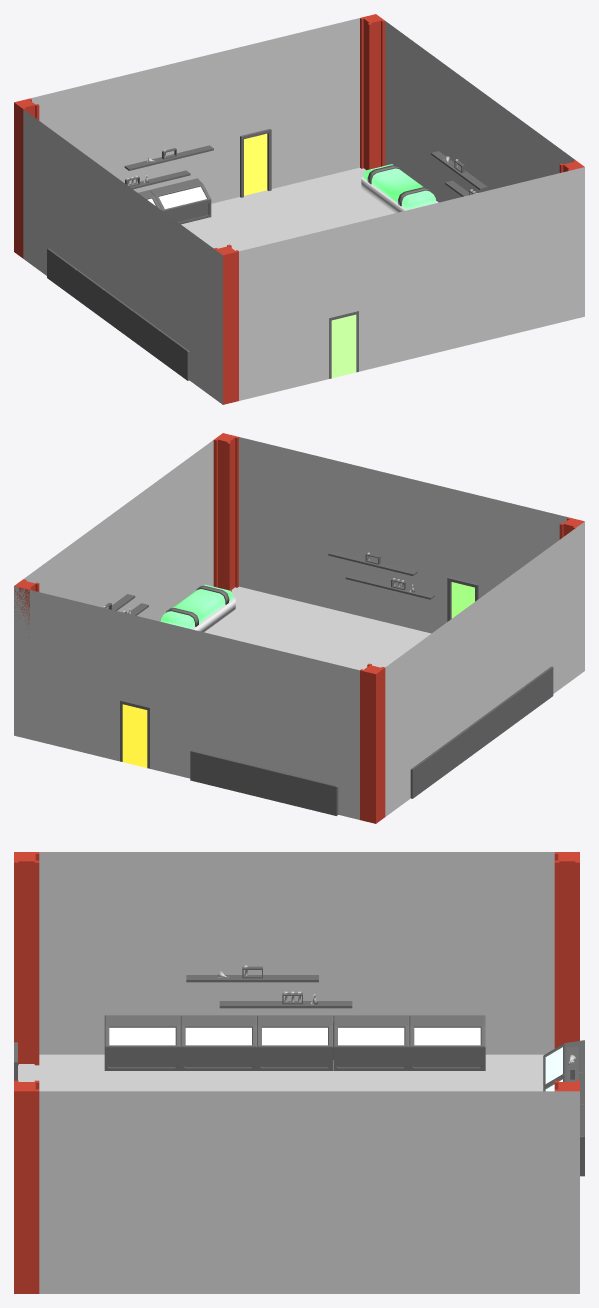
File: level1.fbx
3 renders of one model, top to bottom at view 1: azimuth 30°, elevation 25°; view 2: azimuth 150°, elevation 25°; view 3: azimuth 270°, elevation 25°, orthographic. The views are drawn at different scales.
Parts seen in each view (by area): view 1: wall.002, wall.003, wall.001, wall.004, floor, container, girder, girder.002, life_pod, container.001, girder.003, entrance (+3 smaller); view 2: wall.003, wall.002, wall.001, wall.004, floor, container.001, container, girder.003, girder.001, life_pod, door_exit, entrance (+2 smaller); view 3: wall.004, wall.001, container, floor, girder.001, girder.002, girder.003, container.001, shelf.003, shelf.002.
Part boxes in pixels (bbox=[...]): wall.002: bbox=[239, 167, 584, 400]; wall.003: bbox=[30, 18, 359, 203]; wall.001: bbox=[23, 109, 222, 404]; wall.004: bbox=[385, 21, 575, 202]; floor: bbox=[181, 167, 394, 251]; container: bbox=[47, 248, 189, 380]; girder: bbox=[360, 14, 385, 170]; girder.002: bbox=[214, 244, 238, 404]; life_pod: bbox=[361, 164, 438, 213]; container.001: bbox=[138, 178, 211, 224]; girder.003: bbox=[14, 98, 39, 258]; entrance: bbox=[331, 314, 356, 378]; wall.003: bbox=[14, 586, 359, 819]; wall.002: bbox=[239, 437, 568, 633]; wall.001: bbox=[385, 521, 584, 816]; wall.004: bbox=[23, 440, 213, 621]; floor: bbox=[204, 586, 431, 670]; container.001: bbox=[190, 750, 338, 815]; container: bbox=[410, 666, 553, 798]; girder.003: bbox=[360, 663, 385, 823]; girder.001: bbox=[213, 433, 238, 591]; life_pod: bbox=[160, 584, 235, 632]; door_exit: bbox=[122, 704, 147, 767]; entrance: bbox=[451, 582, 474, 618]; wall.004: bbox=[39, 1091, 579, 1293]; wall.001: bbox=[39, 852, 554, 1054]; container: bbox=[104, 1015, 485, 1070]; floor: bbox=[18, 1054, 544, 1091]; girder.001: bbox=[14, 1080, 39, 1293]; girder.002: bbox=[14, 852, 39, 1065]; girder.003: bbox=[554, 852, 579, 1048]; container.001: bbox=[543, 1040, 584, 1176]; shelf.003: bbox=[186, 975, 318, 982]; shelf.002: bbox=[219, 1001, 352, 1008].
Bounding box in the file's own units: 1126 × 446 × 1130.
